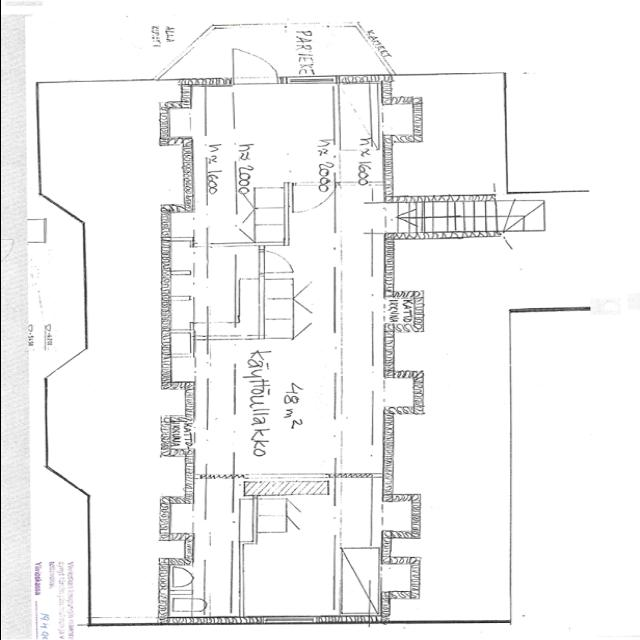door: (223, 48, 283, 90), (285, 175, 332, 217), (250, 250, 290, 280)
